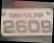character: (2, 19, 15, 33), (27, 19, 40, 32), (15, 19, 27, 33), (40, 19, 51, 33)
